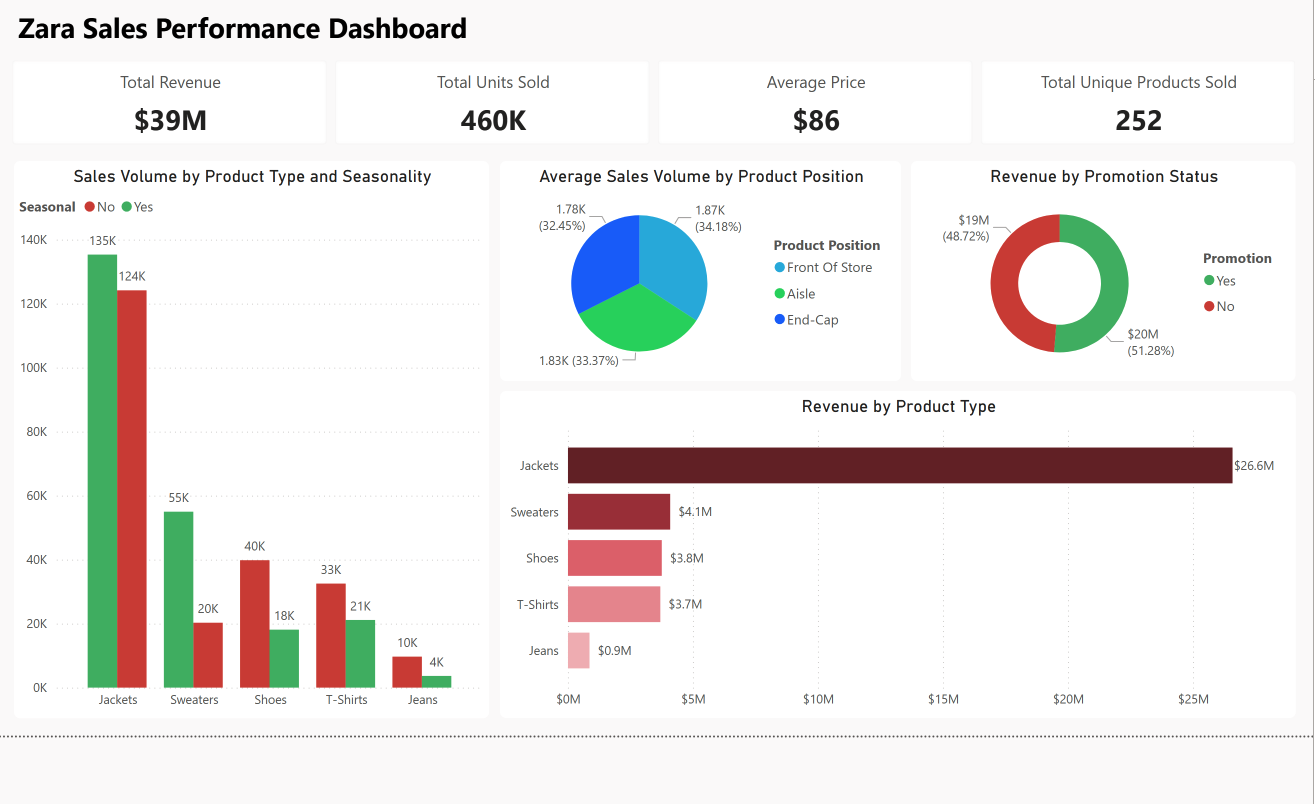

The dashboard page shown, as its layout file describes it:
{"tool":"powerbi","page":{"name":"Page 1","canvas":[1280,720],"ordinal":0},"visuals":[{"type":"clusteredColumnChart","title":"Sales Volume by Product Type and Seasonality","fields":{"Y":["Sum(zara_cleaned.Sales volume)"],"Series":["zara_cleaned.Seasonal"],"Category":["zara_cleaned.Terms"]},"box":[16,160,464,544],"z":0},{"type":"textbox","box":[16,8,784,56],"z":1000},{"type":"pieChart","title":"Average Sales Volume by Product Position","fields":{"Category":["zara_cleaned.Product position"],"Y":["Avg(zara_cleaned.Sales volume)"]},"box":[488,160,392,216],"z":2000},{"type":"donutChart","title":"Revenue by Promotion Status","fields":{"Category":["zara_cleaned.Promotion"],"Y":["Sum(zara_cleaned.Revenue)"]},"box":[888,160,376,216],"z":3000},{"type":"barChart","title":"Revenue by Product Type","fields":{"Category":["zara_cleaned.Terms"],"Y":["Sum(zara_cleaned.Revenue)"]},"box":[488,384,776,320],"z":4000},{"type":"cardVisual","fields":{"Data":["Sum(zara_cleaned.Revenue)","Sum(zara_cleaned.Sales volume)","Avg(zara_cleaned.Price)","Count(zara_cleaned.Product id)"]},"box":[8,56,1264,96],"z":5000}]}

Visuals, with their boxes on the page's 1280x720 design canvas (x1, y1, x2, y2). These are canvas units, not pixel positions in the 1315x804 screenshot, which may show the page scaled, cropped or inside an application window:
"Sales Volume by Product Type and Seasonality" clusteredColumnChart: region(16, 160, 480, 704)
textbox: region(16, 8, 800, 64)
"Average Sales Volume by Product Position" pieChart: region(488, 160, 880, 376)
"Revenue by Promotion Status" donutChart: region(888, 160, 1264, 376)
"Revenue by Product Type" barChart: region(488, 384, 1264, 704)
cardVisual - Sum(zara_cleaned.Revenue) x Sum(zara_cleaned.Sales volume): region(8, 56, 1272, 152)
